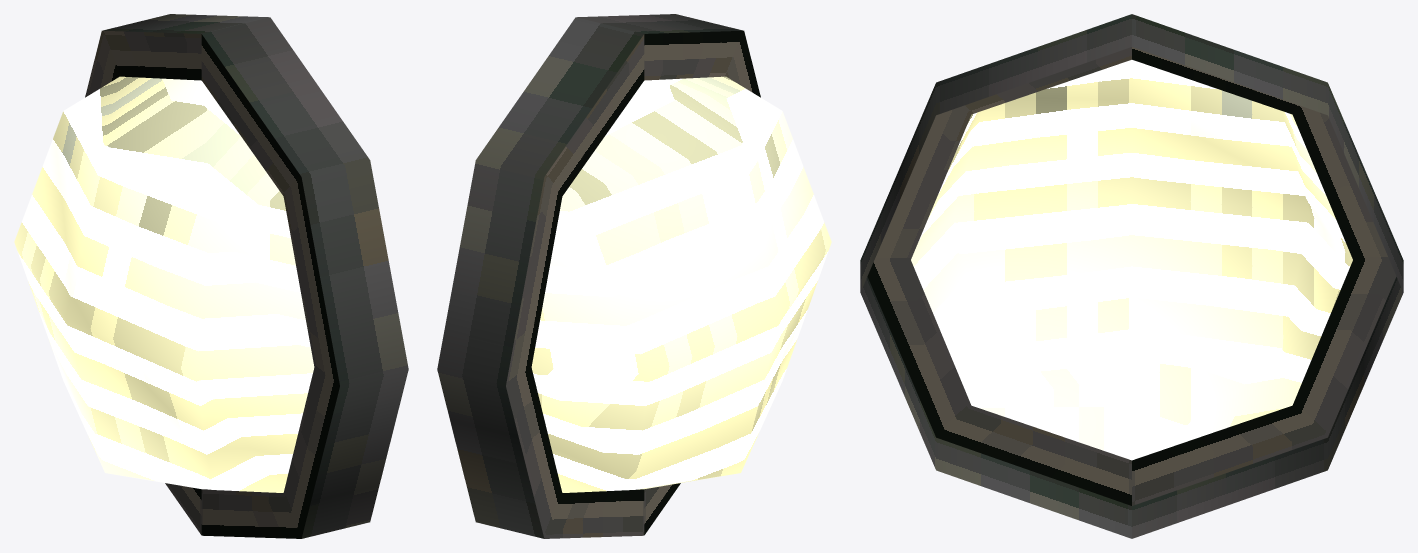
The model's file is SM_LIGHT_03.fbx.
3 views of the same model, side by side, from view 1: azimuth 30°, elevation 25°; view 2: azimuth 150°, elevation 25°; view 3: azimuth 270°, elevation 25° (orthographic).
Parts seen in each view (by area): view 1: SM_LIGHT_03; view 2: SM_LIGHT_03; view 3: SM_LIGHT_03.
Part boxes in pixels (box(x1,y1,x2,y2)): SM_LIGHT_03: box(14, 14, 408, 538); SM_LIGHT_03: box(437, 14, 831, 538); SM_LIGHT_03: box(860, 14, 1403, 538).
Size of the model in its own units: 0.1493 by 0.3498 by 0.3498.
